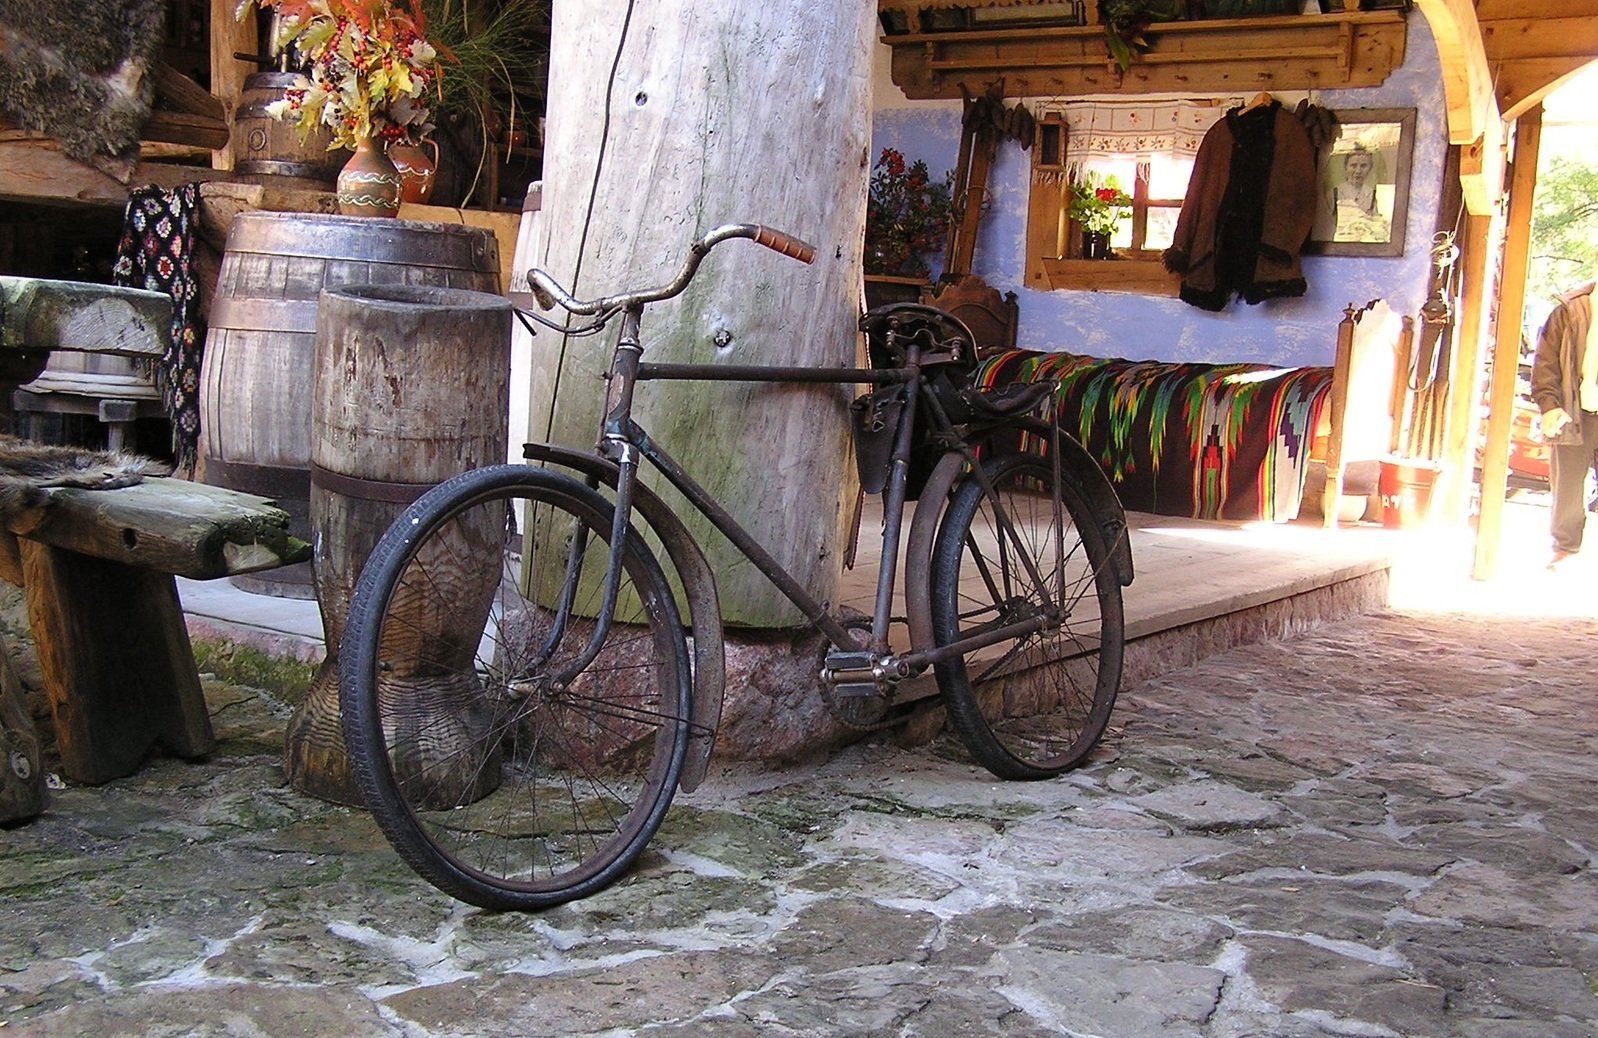Bicycle: (97, 186, 1355, 951)
